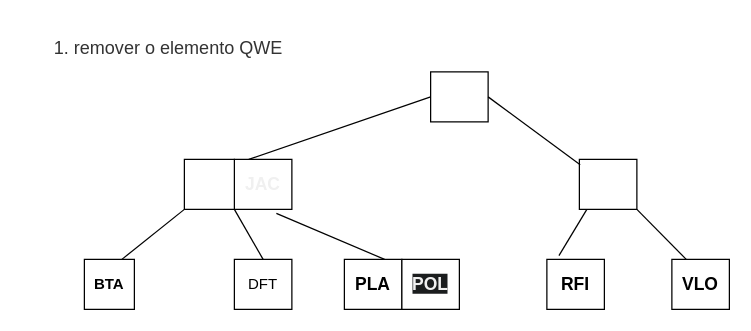
Some shapes in this 751 by 331 pixel diagram are drawn without their labels. Here are the shapes that lost their labels. From the top down, the centre of each, then its label:
point (458, 96): PUC
point (208, 183): BVA
point (607, 183): TAU
